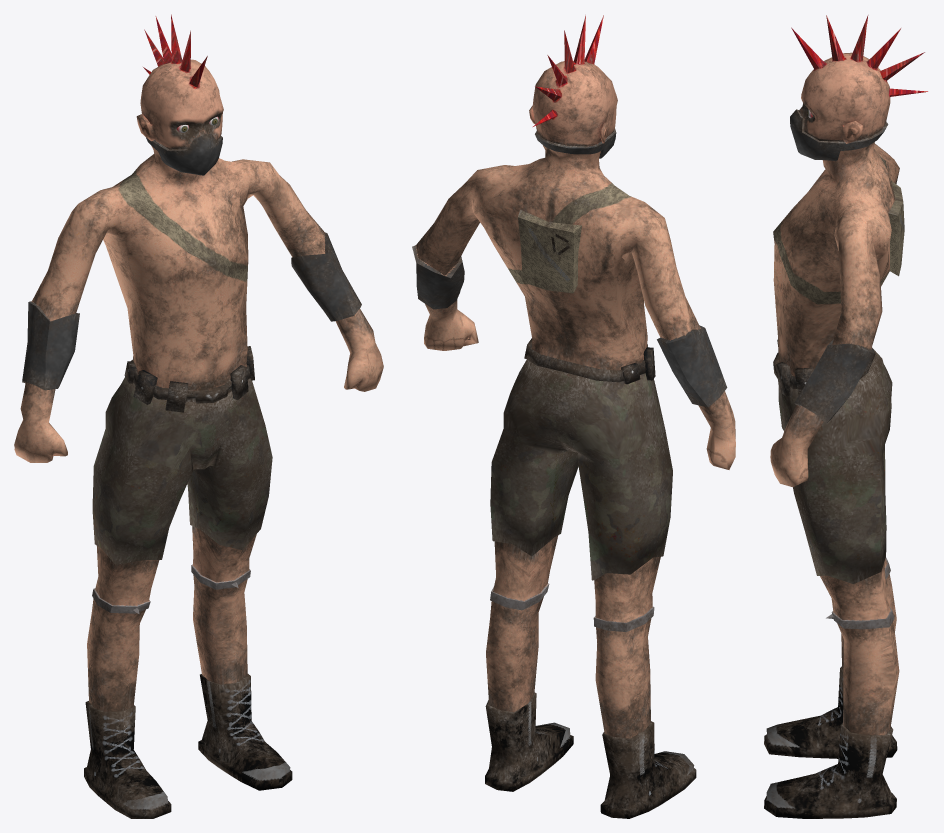
Rendered from Anim_idle_npc2.0019.obj.
3 views of the same model, side by side, from view 1: azimuth 30°, elevation 25°; view 2: azimuth 150°, elevation 25°; view 3: azimuth 270°, elevation 25° (orthographic).
Visible parts, largest first — view 1: polySurface1; view 2: polySurface1; view 3: polySurface1.
Boxes of the visible parts, box(x1,y1,x2,y2) form: polySurface1: box(14, 14, 383, 818); polySurface1: box(412, 15, 735, 818); polySurface1: box(764, 15, 927, 818).
Size of the model in its own units: 4.77 by 10.18 by 1.99.
